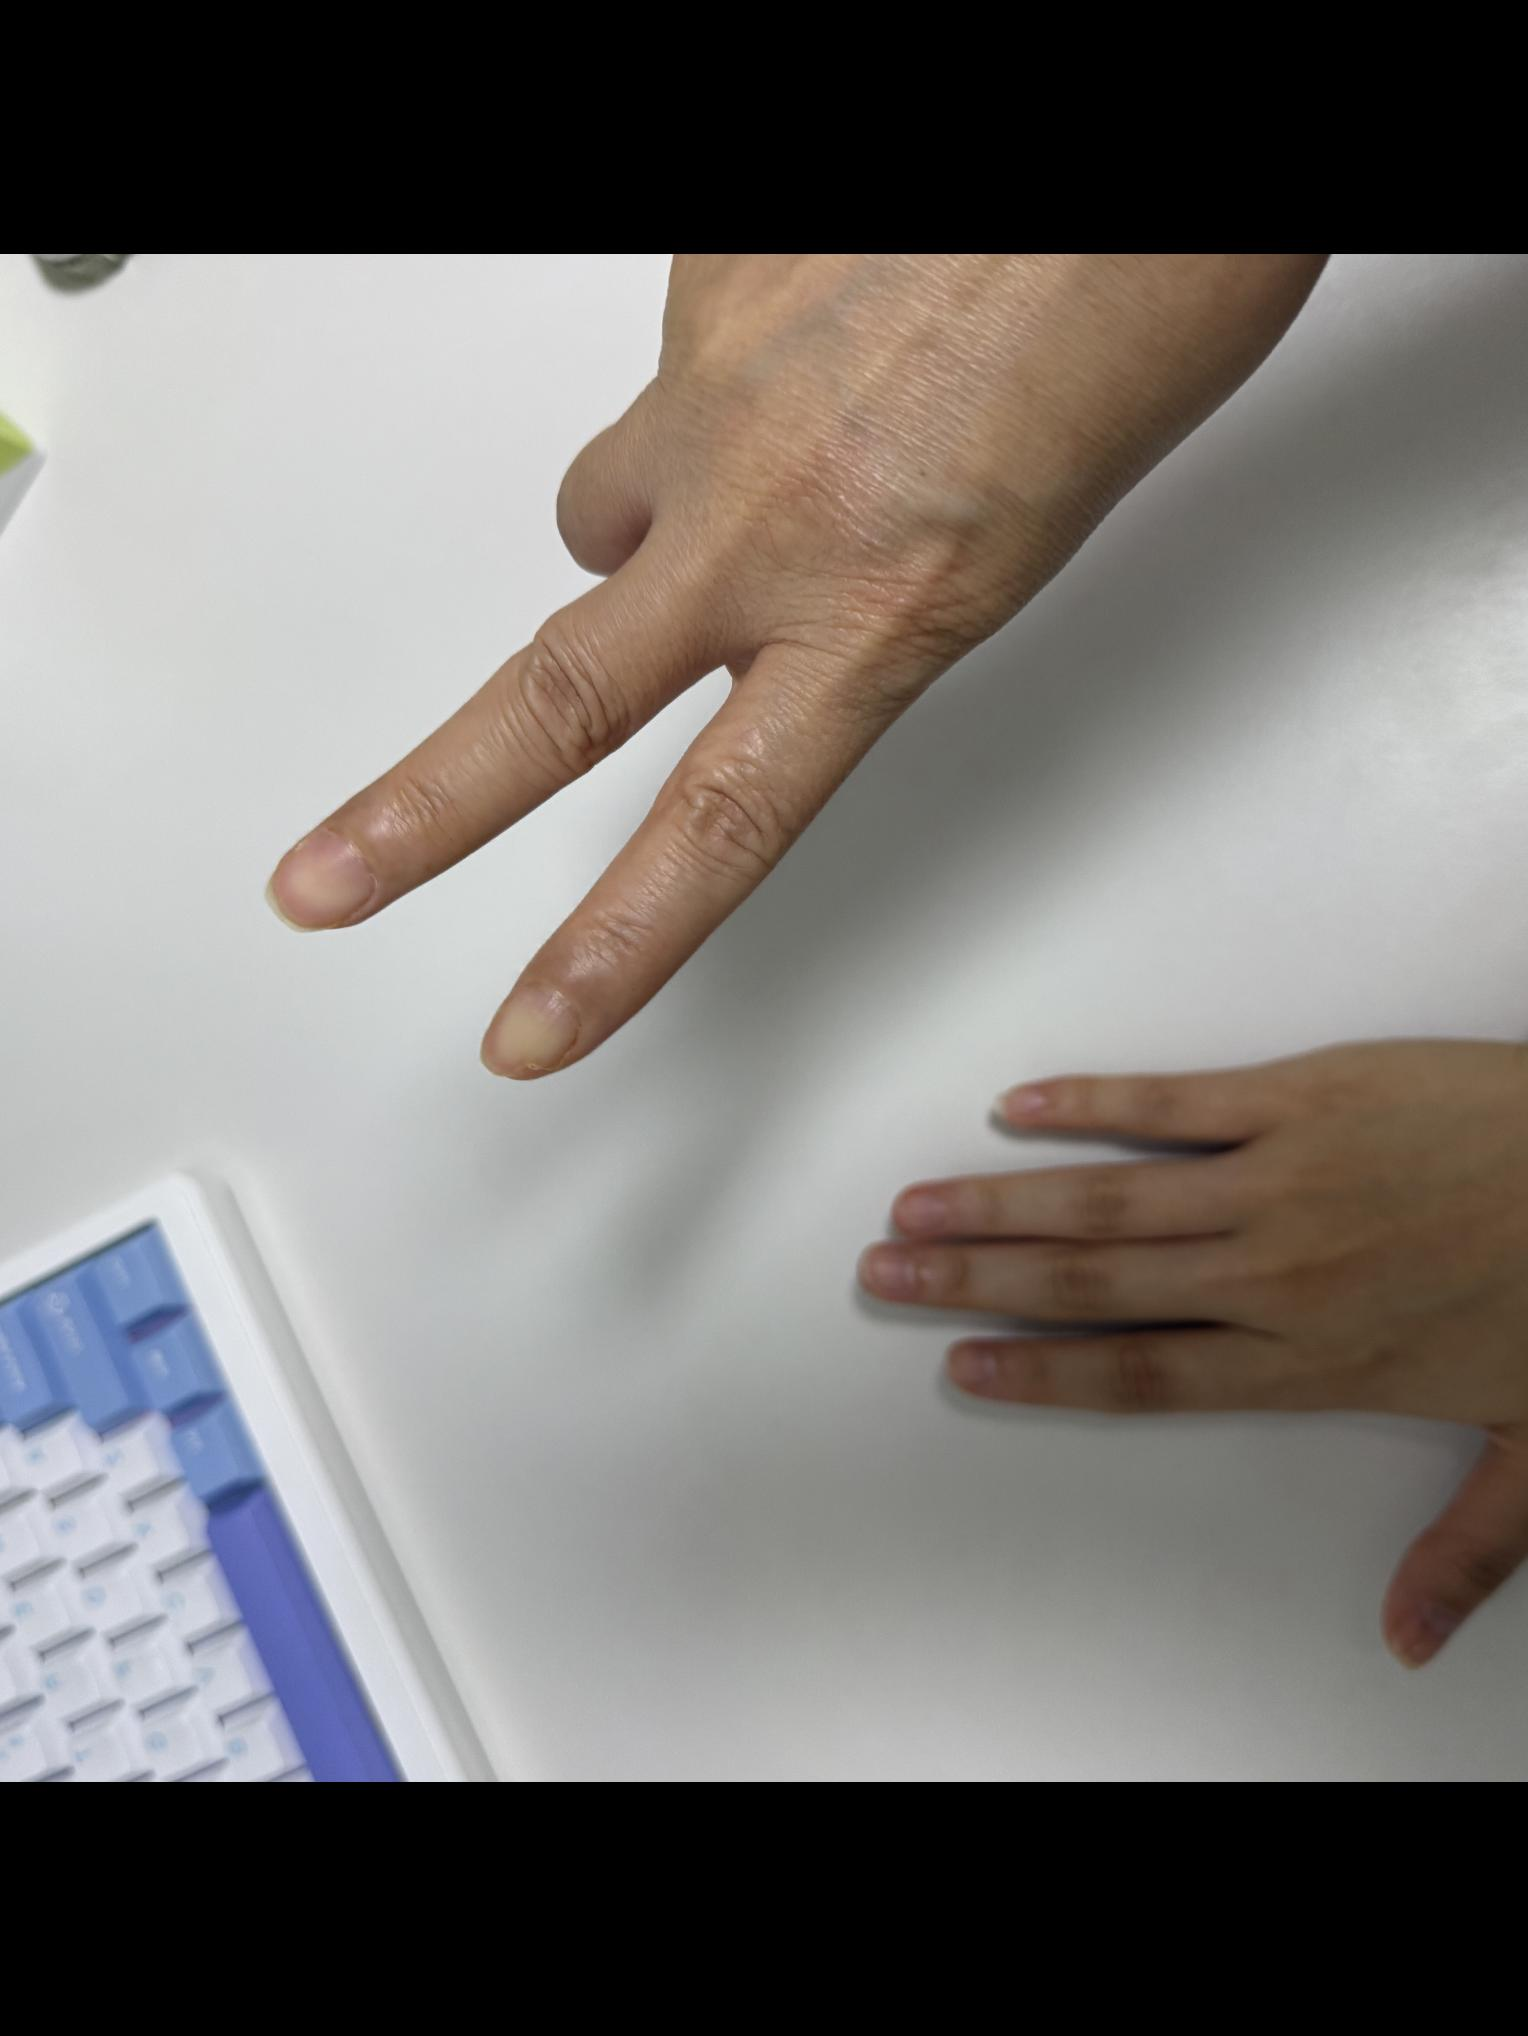v: (265, 253, 1390, 1097)
